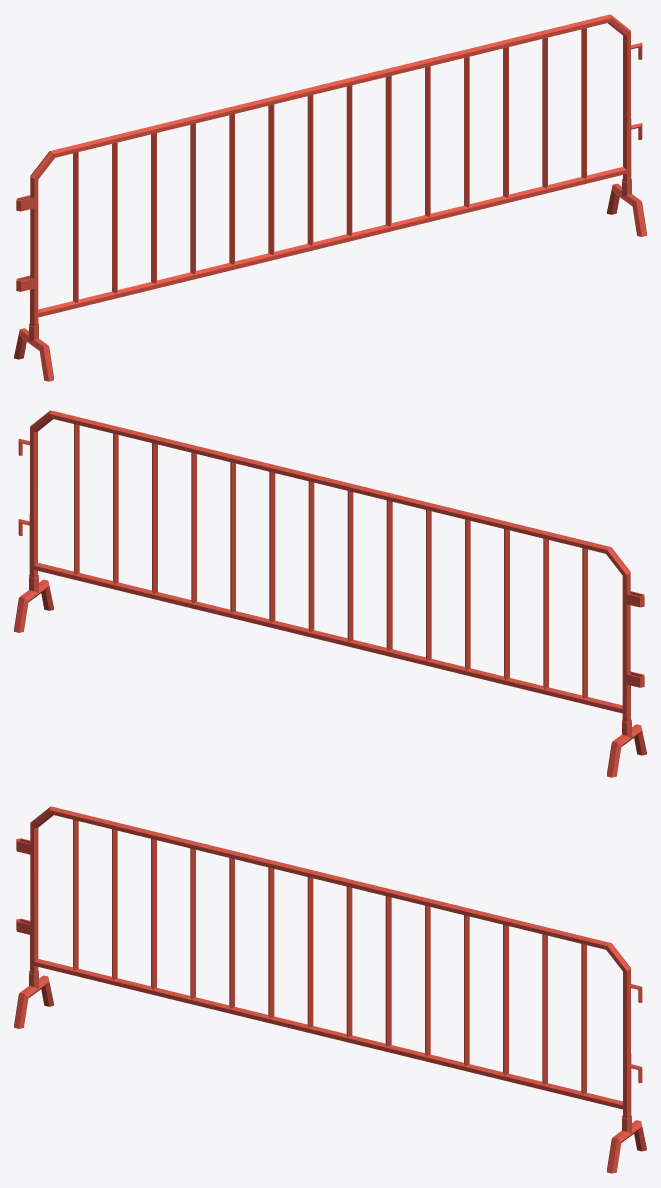
Rendered from SM_Barrier_Crowd_3m.fbx.
3 views of the same model, one above another, from view 1: azimuth 30°, elevation 25°; view 2: azimuth 150°, elevation 25°; view 3: azimuth 330°, elevation 25° (orthographic).
Parts seen in each view (by area): view 1: SM_Barrier_Crowd_3m; view 2: SM_Barrier_Crowd_3m; view 3: SM_Barrier_Crowd_3m.
Part boxes in pixels (left/top/right/bottom): SM_Barrier_Crowd_3m: left=14, top=14, right=646, bottom=381; SM_Barrier_Crowd_3m: left=14, top=410, right=646, bottom=777; SM_Barrier_Crowd_3m: left=14, top=806, right=646, bottom=1173.
Size of the model in its own units: 29.29 by 303 by 98.7.
